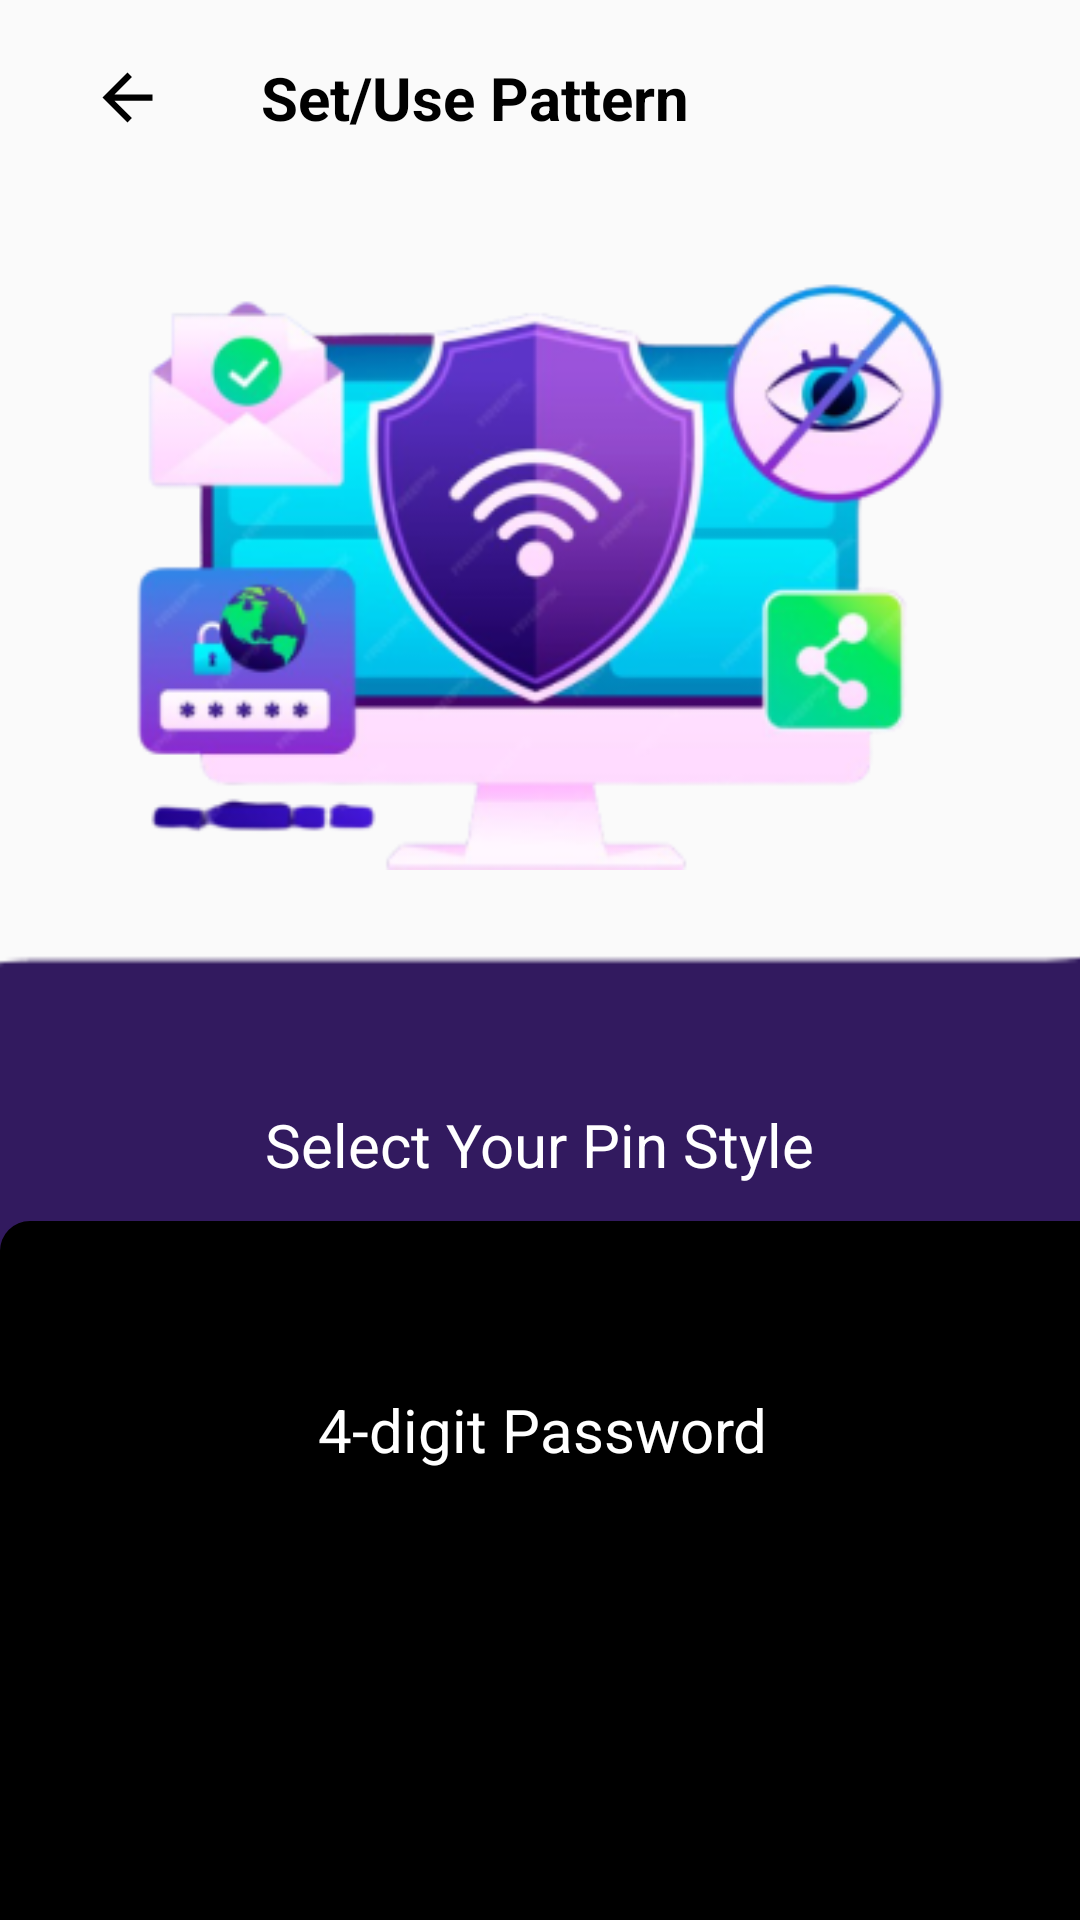

Named icons in this screenshot (1080 x 1920) and their bounding boxes, (x1, y1, x2, y2):
arrow back: (102, 72, 153, 123)
